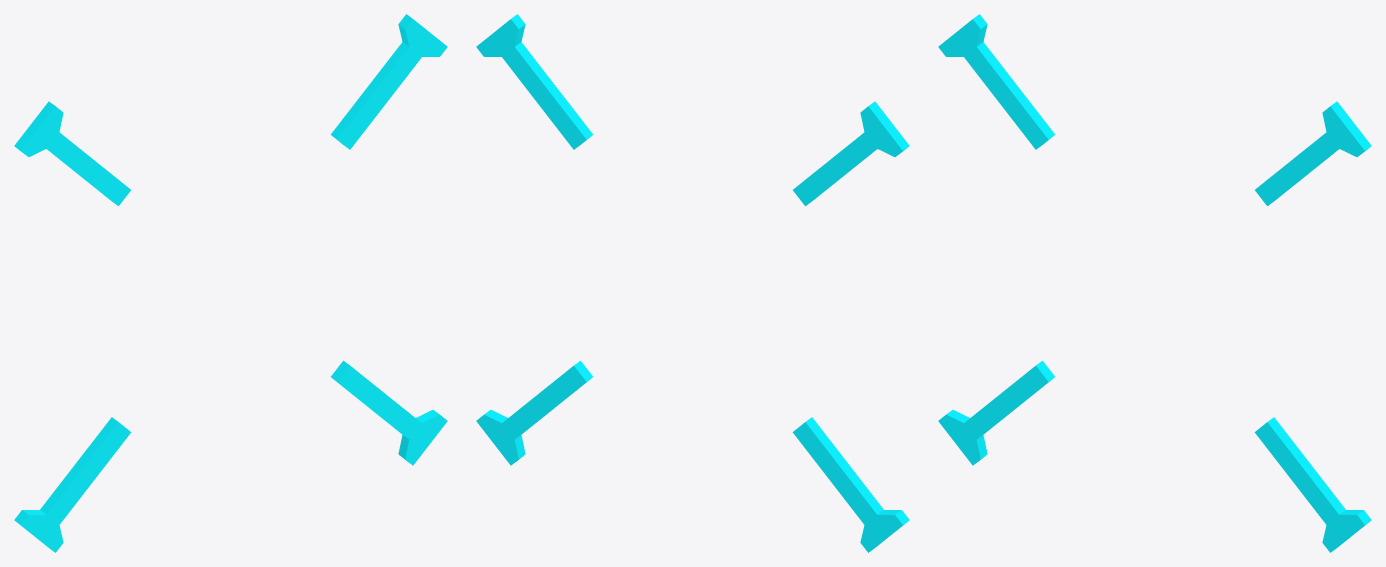
Rendered from SM_Hud_Reticle_05.glb.
3 views of the same model, side by side, from view 1: azimuth 30°, elevation 25°; view 2: azimuth 150°, elevation 25°; view 3: azimuth 330°, elevation 25° (orthographic).
Parts seen in each view (by area): view 1: SM_Hud_Reticle_05; view 2: SM_Hud_Reticle_05; view 3: SM_Hud_Reticle_05.
Part boxes in pixels (x1,y1,x2,y2): SM_Hud_Reticle_05: [14, 14, 447, 552]; SM_Hud_Reticle_05: [476, 14, 909, 552]; SM_Hud_Reticle_05: [938, 14, 1371, 552].
Size of the model in its own units: 0.38 by 0.38 by 0.0105.
